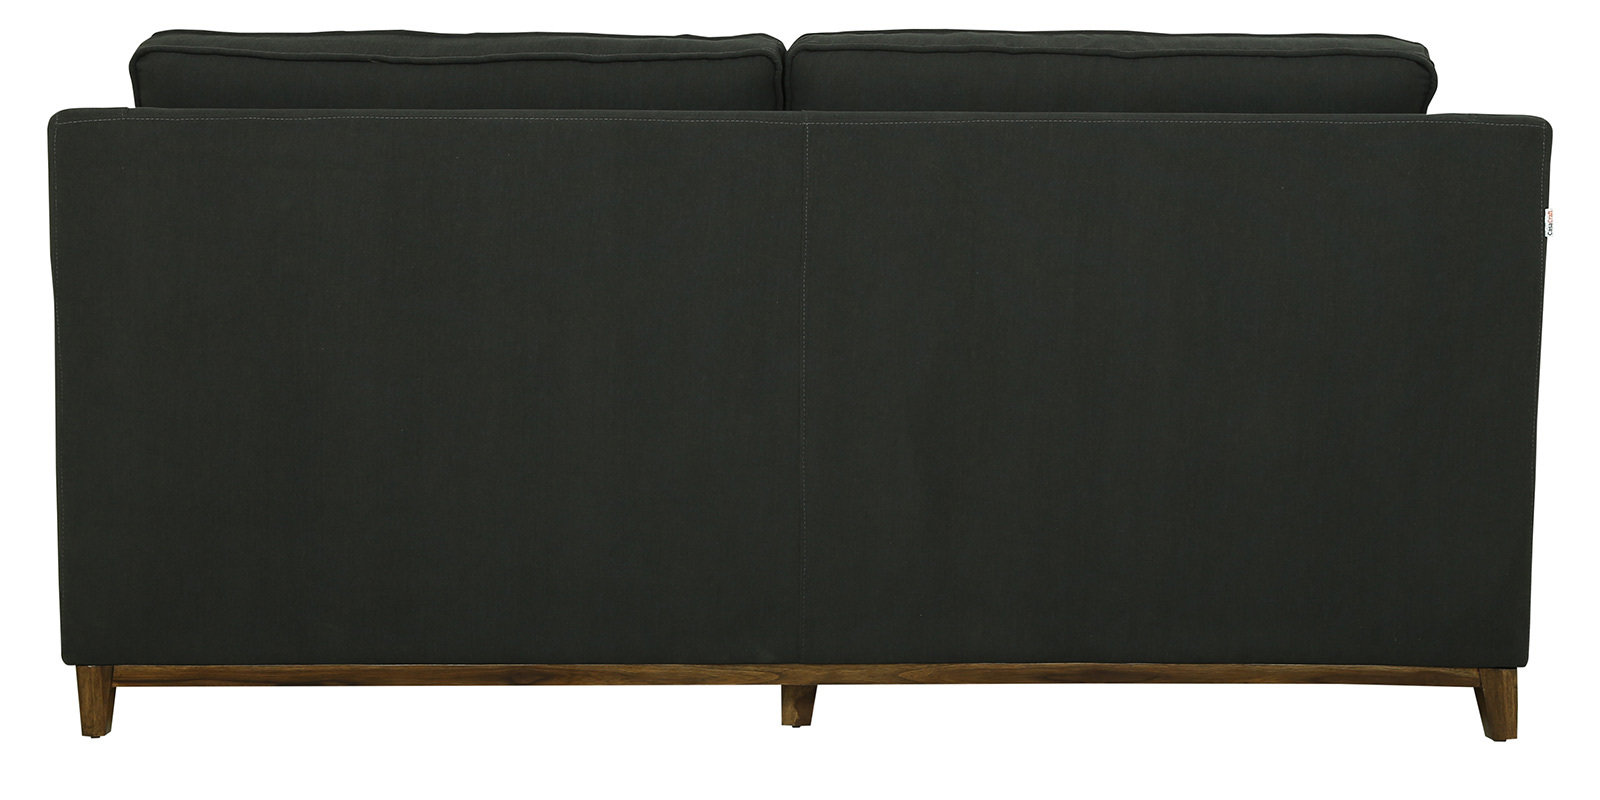Diego Three Seater Sofa in Charcoal Grey Colour by CasaCraft: (14, 21, 1567, 743)
